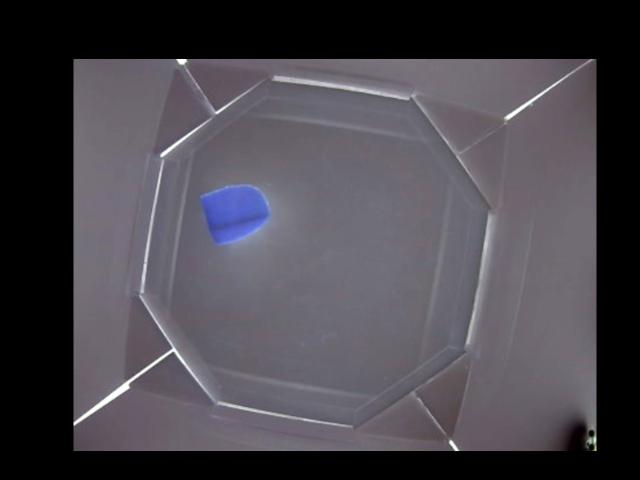Potato: (200, 182, 267, 246)
